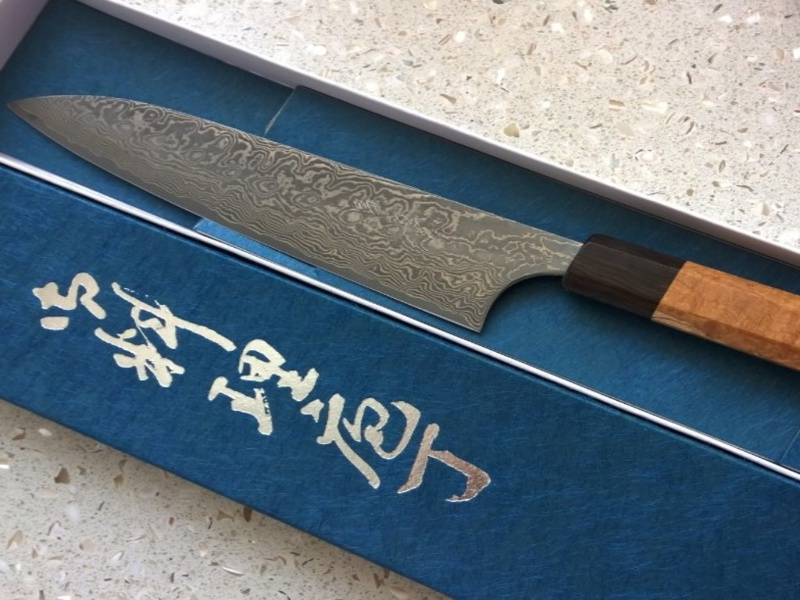knife: (1, 89, 800, 369)
